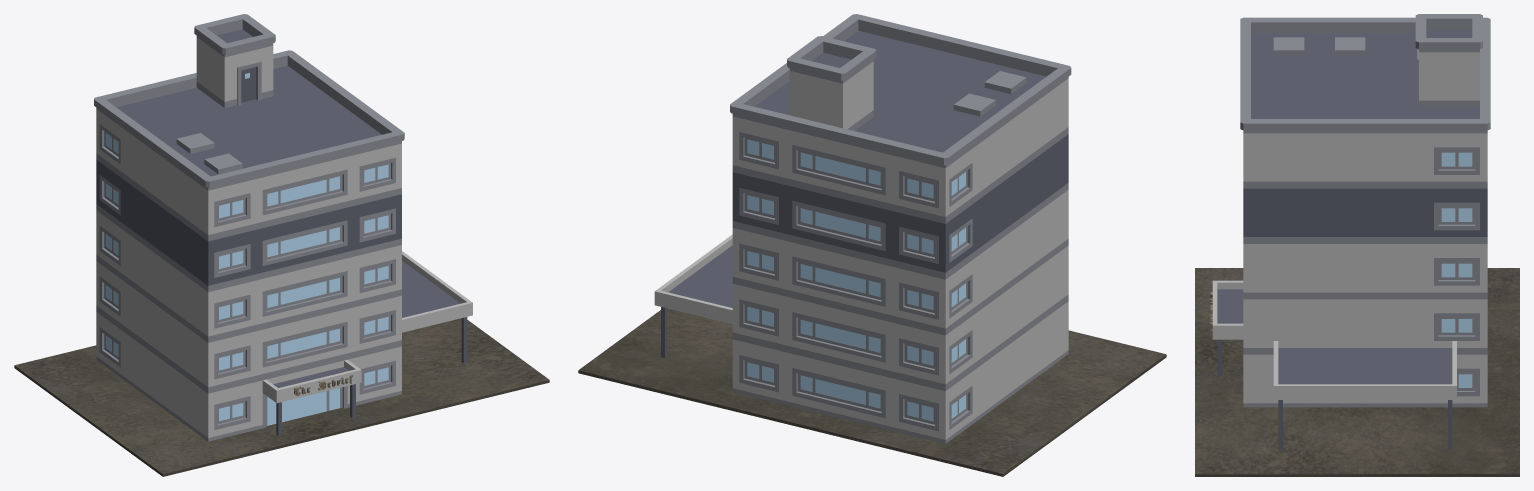
Rendered from debrief.glb.
The picture shows the model from 3 angles, left to right: view 1: azimuth 30°, elevation 25°; view 2: azimuth 150°, elevation 25°; view 3: azimuth 270°, elevation 25°; orthographic projection. The views are drawn at different scales.
Visible parts, largest first — view 1: building, slate; view 2: building, slate; view 3: building, slate.
Part boxes in pixels (x1=…): building: x1=94, y1=14, x2=472, y2=441; slate: x1=14, y1=318, x2=549, y2=476; building: x1=654, y1=14, x2=1071, y2=443; slate: x1=578, y1=308, x2=1166, y2=476; building: x1=1212, y1=14, x2=1490, y2=450; slate: x1=1195, y1=268, x2=1519, y2=476.
Size of the model in its own units: 3 by 2.33 by 2.
6 materials, 1 textured.
